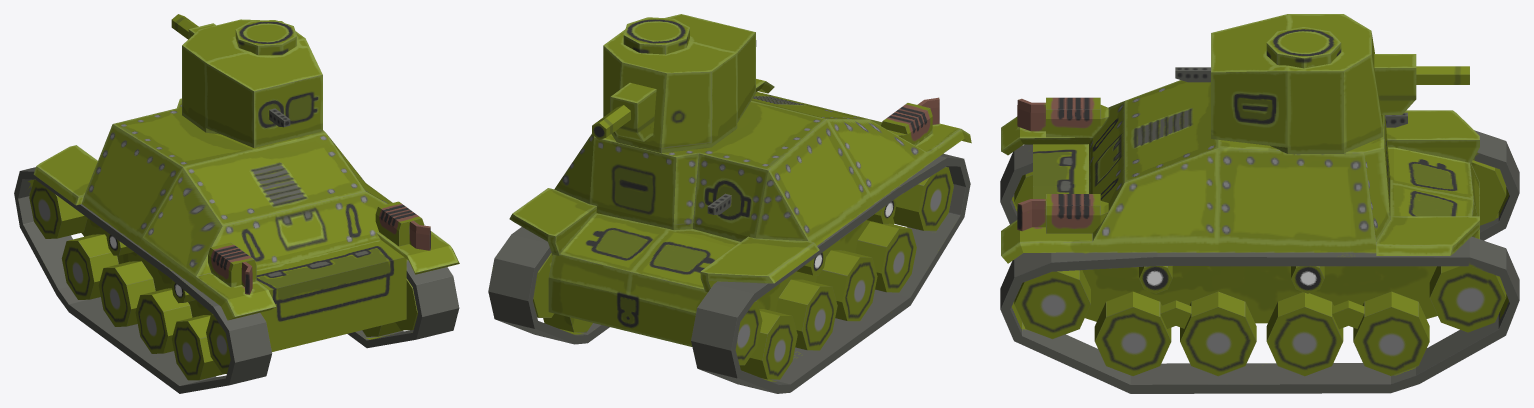
File: tankt97.gltf
3 renders of one model, left to right at view 1: azimuth 30°, elevation 25°; view 2: azimuth 150°, elevation 25°; view 3: azimuth 270°, elevation 25°, orthographic. The views are drawn at different scales.
Visible parts, largest first — view 1: Chi-Cha; view 2: Chi-Cha; view 3: Chi-Cha.
Boxes of the visible parts, x1=… form: Chi-Cha: x1=14, y1=14, x2=459, y2=393; Chi-Cha: x1=488, y1=14, x2=971, y2=393; Chi-Cha: x1=1000, y1=14, x2=1519, y2=393.
Size of the model in its own units: 144 by 150 by 225.
1 material, 1 textured.
